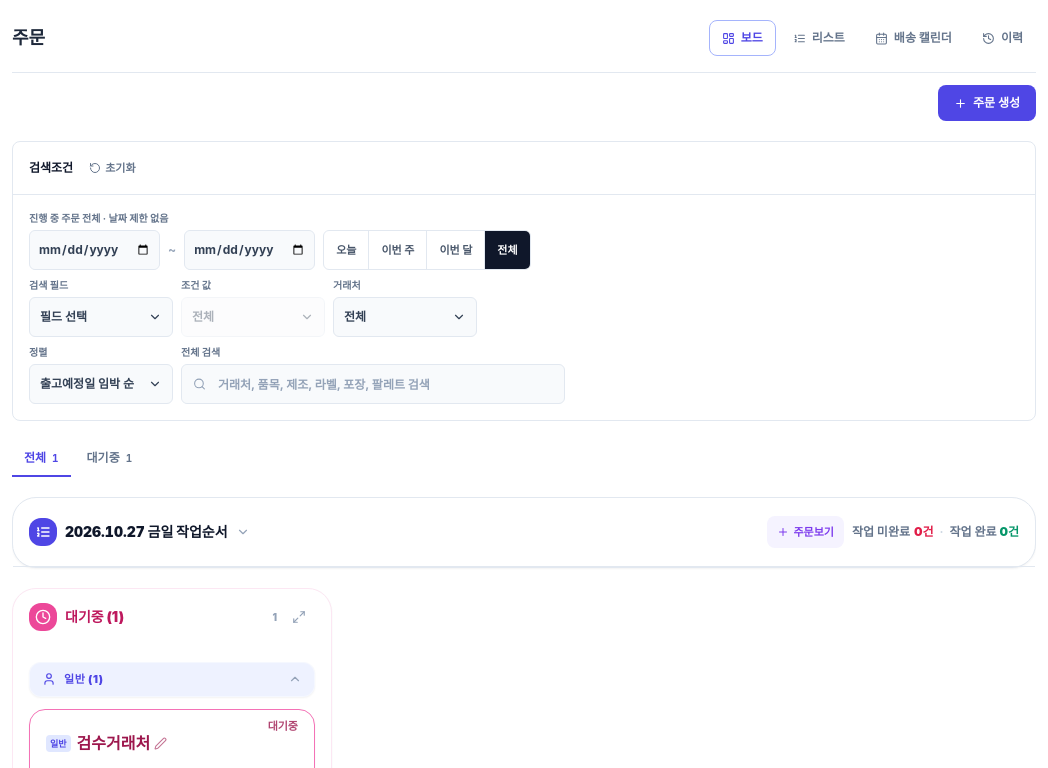
Test: 진행 주문의 빠른기간은 같은 서울 날짜를 쓰고 전체는 기존 빈 범위로 복원한다
Click the button "오늘" at point(347, 250), box [324, 231, 370, 269]
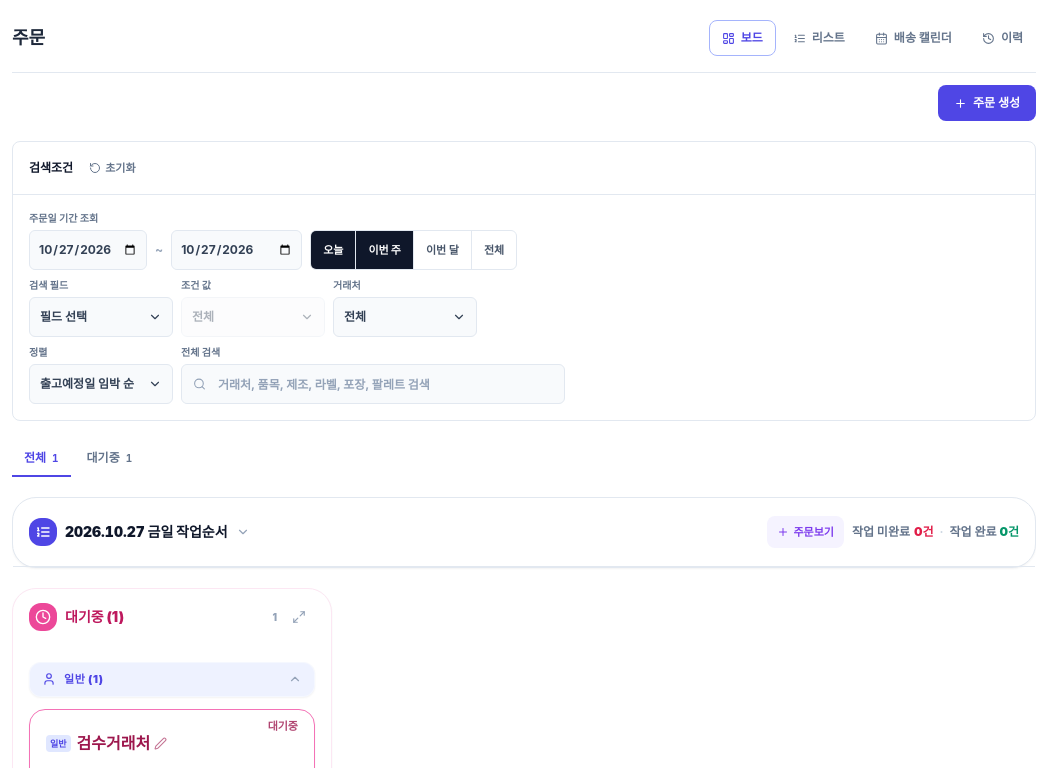
Click the button with aria-label "기간 전체" at point(494, 250), box [472, 231, 516, 269]
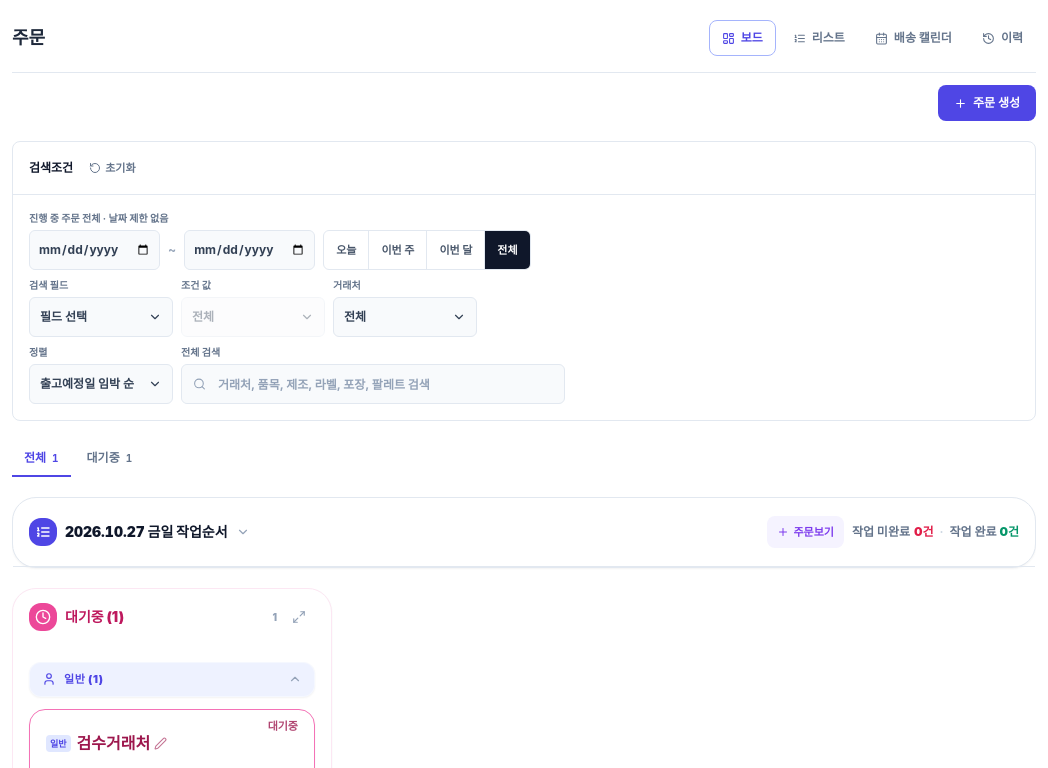
Expected: the date field named "진행 주문일 시작" is empty, [29, 230, 160, 270]
Expected: the date field named "진행 주문일 종료" is empty, [184, 230, 315, 270]
Click the button "오늘" at point(347, 250), box [324, 231, 370, 269]
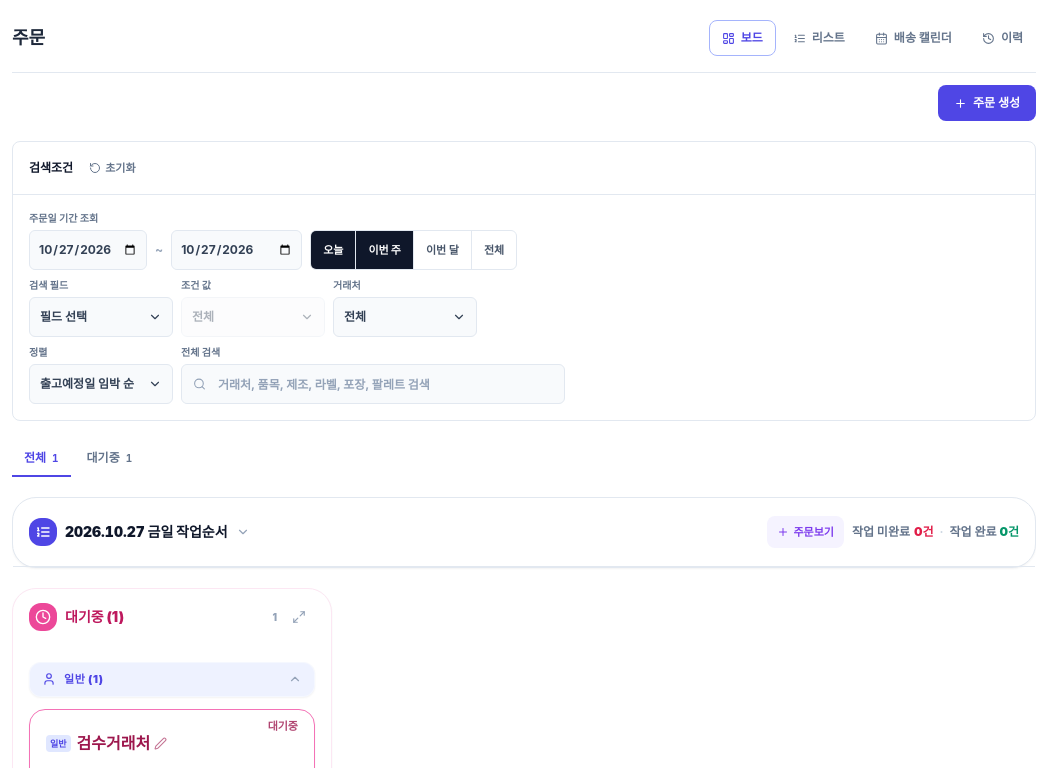
Click the button "초기화" at point(112, 168), box [81, 152, 144, 184]
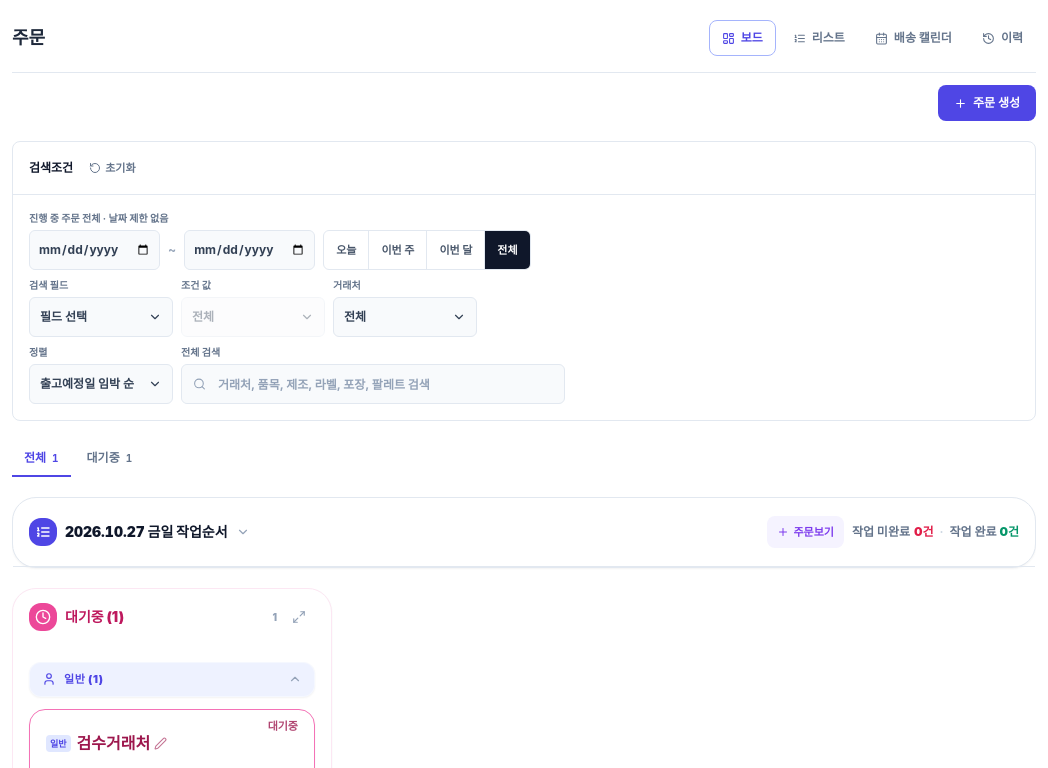
Expected: the date field named "진행 주문일 시작" is empty, [29, 230, 160, 270]
Expected: the date field named "진행 주문일 종료" is empty, [184, 230, 315, 270]
